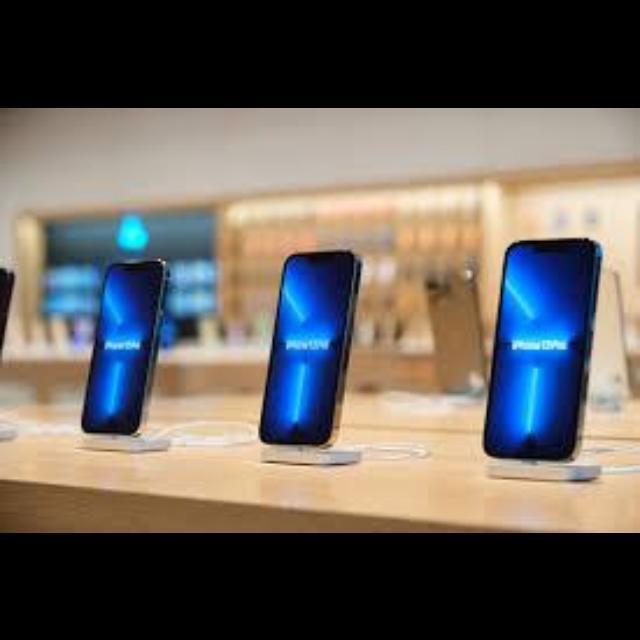phone: (478, 238, 595, 464), (83, 246, 182, 452), (263, 250, 355, 452)
